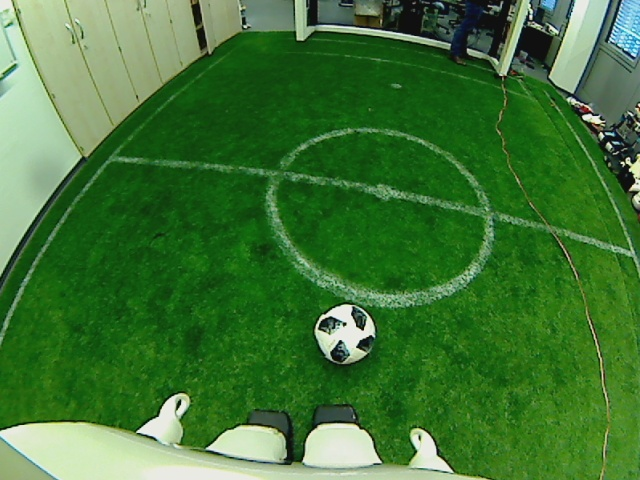ball: (311, 303, 377, 365)
